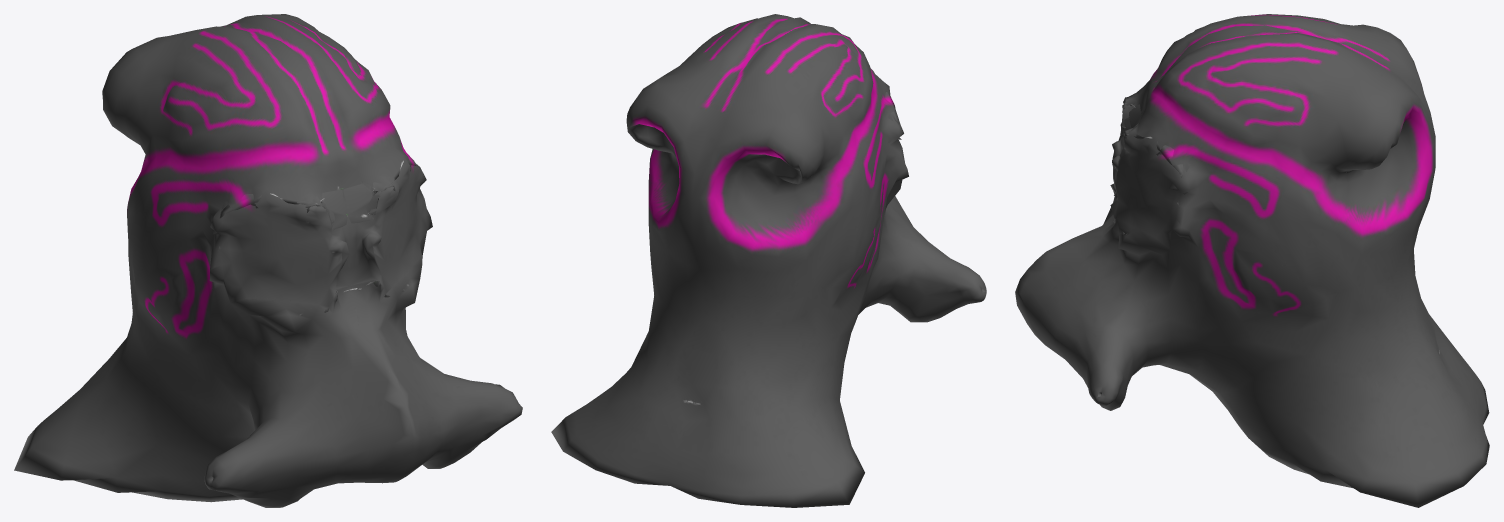
File: kmi_head.fbx
3 views of the same model, side by side, from view 1: azimuth 30°, elevation 25°; view 2: azimuth 150°, elevation 25°; view 3: azimuth 270°, elevation 25° (orthographic). The views are drawn at different scales.
Parts seen in each view (by area): view 1: kmi_head1_2; view 2: kmi_head1_2; view 3: kmi_head1_2.
Boxes of the visible parts, box(x1,y1,x2,y2) form: kmi_head1_2: box(14, 14, 522, 507); kmi_head1_2: box(551, 14, 986, 507); kmi_head1_2: box(1015, 14, 1489, 507).
Size of the model in its own units: 0.2457 by 0.3038 by 0.322.
1 material, 1 textured.
